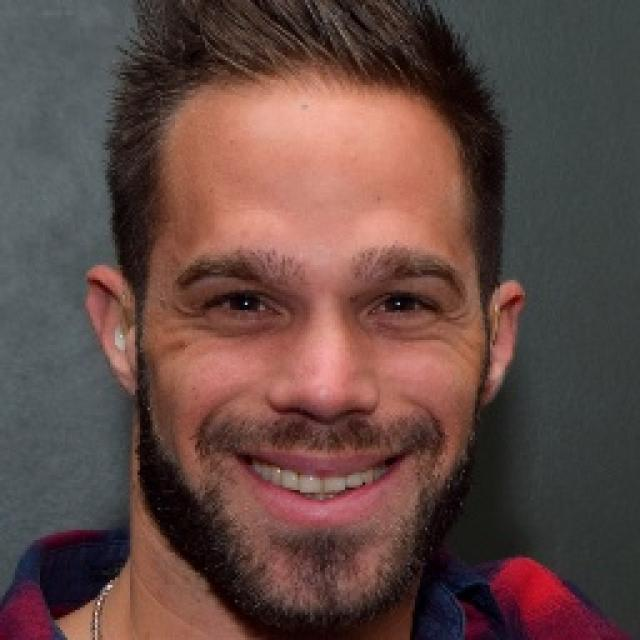earlobe: (84, 265, 144, 400), (474, 279, 526, 411)
